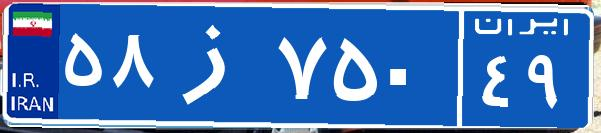0: (385, 28, 445, 110)
4: (475, 38, 525, 113)
5: (330, 28, 385, 110), (57, 26, 110, 107)
7: (273, 28, 330, 110)
8: (110, 28, 158, 105)
9: (525, 38, 570, 115)
ز: (158, 15, 273, 115)
